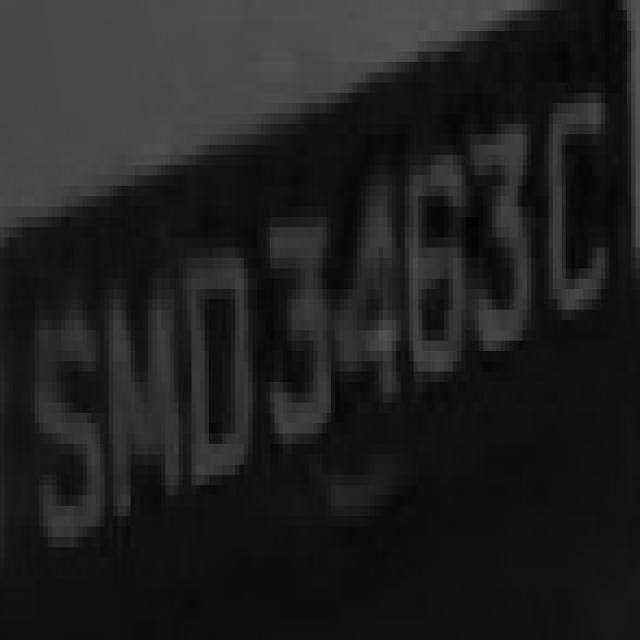3: (453, 93, 531, 382), (261, 176, 331, 485)
4: (314, 155, 401, 413)
6: (383, 144, 466, 402)
C: (531, 72, 618, 341)
D: (174, 227, 248, 485)
M: (96, 248, 170, 537)
S: (22, 258, 96, 578)
